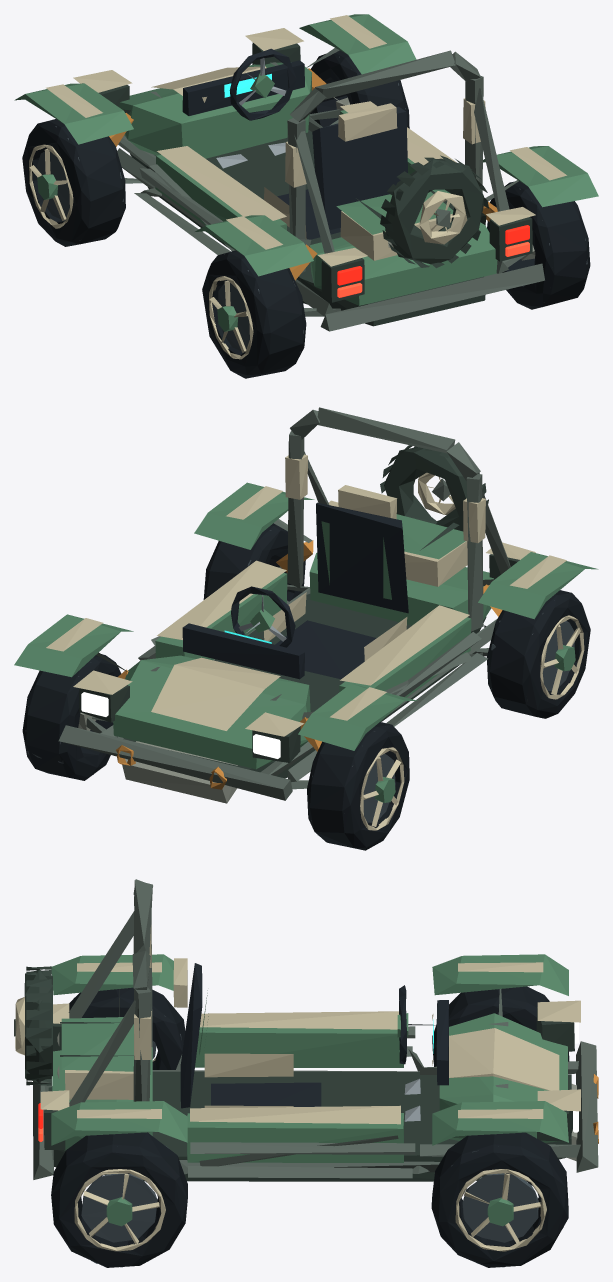
The model's file is rally_lod1.glb.
The picture shows the model from 3 angles, top to bottom: view 1: azimuth 30°, elevation 25°; view 2: azimuth 150°, elevation 25°; view 3: azimuth 270°, elevation 25°; orthographic projection. The views are drawn at different scales.
Visible parts, largest first — view 1: body_mesh, wheel_fl, wheel_rl, wheel_rr, wheel_fr, steering_wheel, light_brake_mesh, light_tail_mesh; view 2: body_mesh, wheel_fl, wheel_rl, wheel_fr, wheel_rr, steering_wheel, light_head_mesh; view 3: body_mesh, wheel_fr, wheel_rr, wheel_rl, wheel_fl, steering_wheel.
Part boxes in pixels (box(x1,y1,x2,y2)): body_mesh: box(14, 14, 598, 331); wheel_fl: box(22, 119, 125, 246); wheel_rl: box(202, 250, 306, 378); wheel_rr: box(487, 181, 590, 309); wheel_fr: box(310, 50, 409, 128); steering_wheel: box(229, 48, 296, 120); light_brake_mesh: box(337, 225, 529, 285); light_tail_mesh: box(337, 242, 529, 297); body_mesh: box(14, 407, 598, 803); wheel_fl: box(307, 722, 409, 850); wheel_rl: box(486, 590, 590, 718); wheel_fr: box(22, 654, 121, 780); wheel_rr: box(203, 523, 305, 601); steering_wheel: box(231, 586, 295, 647); light_head_mesh: box(81, 692, 280, 758); body_mesh: box(14, 879, 598, 1181); wheel_fr: box(431, 1132, 568, 1267); wheel_rr: box(51, 1132, 187, 1267); wheel_rl: box(69, 987, 185, 1069); wheel_fl: box(432, 986, 569, 1066); steering_wheel: box(397, 985, 408, 1064).
Bounding box in the file's own units: 1.73 × 1.25 × 2.39.
